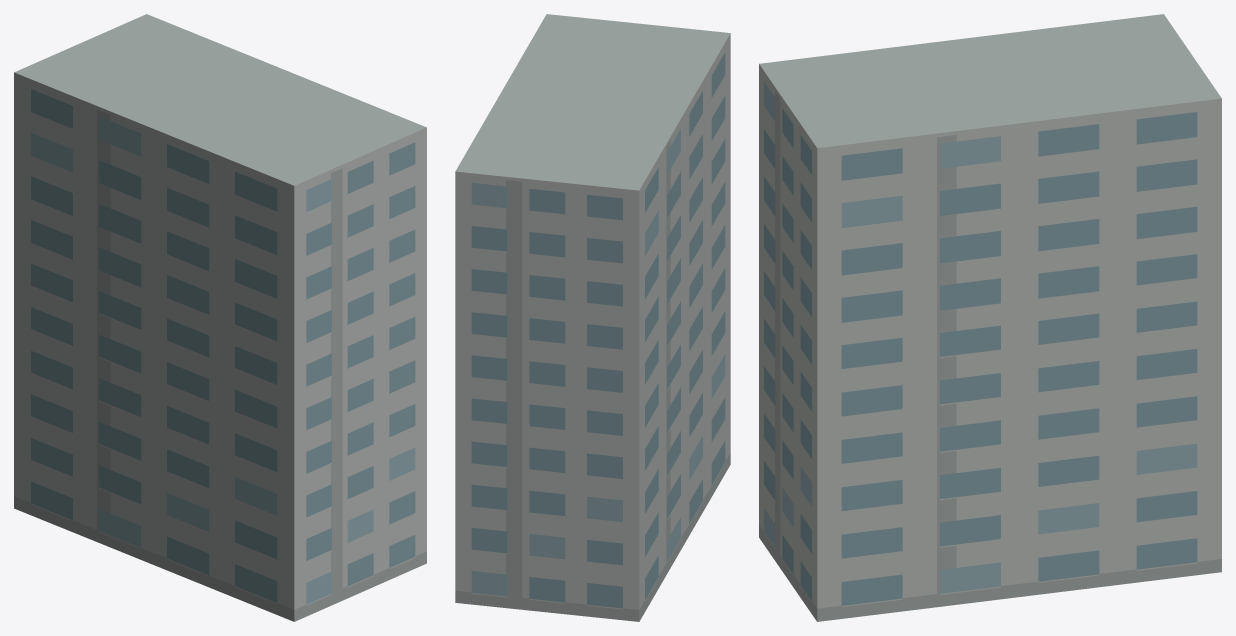
File: residential-9aba7c4c-fd3b-4b6c-9798-5a8fb8905875.glb
The picture shows the model from 3 angles, left to right: view 1: azimuth 30°, elevation 25°; view 2: azimuth 150°, elevation 25°; view 3: azimuth 270°, elevation 25°; orthographic projection. The views are drawn at different scales.
Visible parts, largest first — view 1: residential-9aba7c4c-fd3b-4b6c-9798-5a8fb8905875.tmp; view 2: residential-9aba7c4c-fd3b-4b6c-9798-5a8fb8905875.tmp; view 3: residential-9aba7c4c-fd3b-4b6c-9798-5a8fb8905875.tmp.
Boxes of the visible parts, x1,y1,x2,y2 form: residential-9aba7c4c-fd3b-4b6c-9798-5a8fb8905875.tmp: (14,14,426,621); residential-9aba7c4c-fd3b-4b6c-9798-5a8fb8905875.tmp: (455,14,730,621); residential-9aba7c4c-fd3b-4b6c-9798-5a8fb8905875.tmp: (759,14,1221,621).
Bounding box in the file's own units: 18.55 × 30.5 × 27.02.
